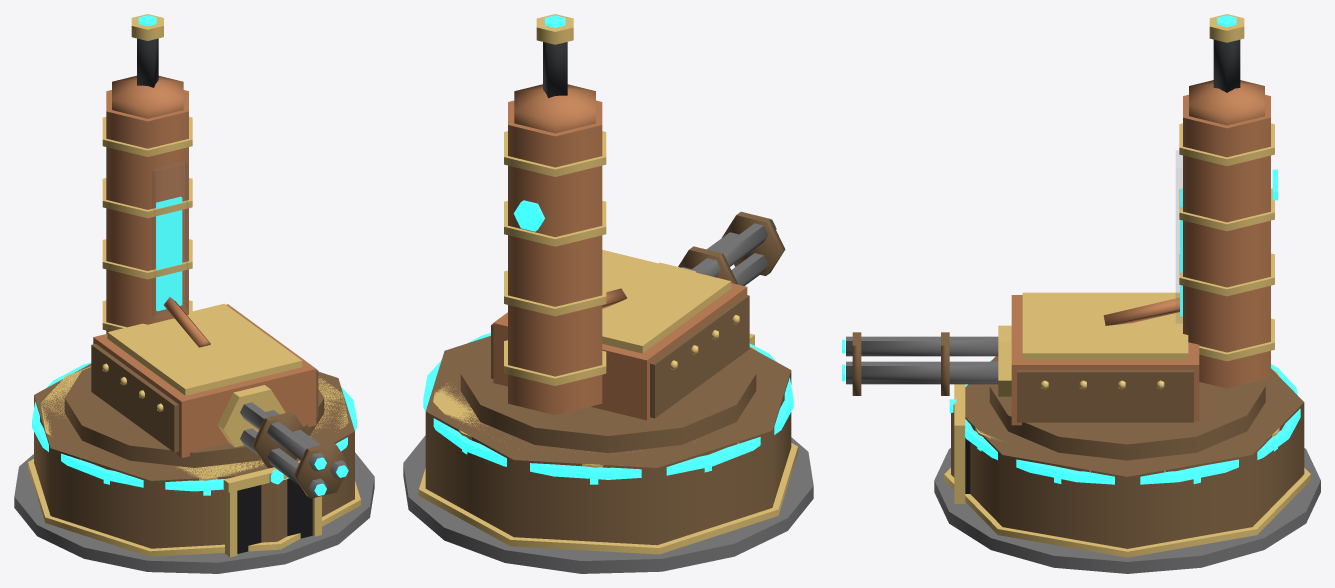
Rendered from Machinegoon_T1_Pepperbox.glb.
The picture shows the model from 3 angles, left to right: view 1: azimuth 30°, elevation 25°; view 2: azimuth 150°, elevation 25°; view 3: azimuth 270°, elevation 25°; orthographic projection. The views are drawn at different scales.
Parts seen in each view (by area): view 1: Machinegoon_T1_Pepperbox_Turret, Machinegoon_T1_Pepperbox_Base; view 2: Machinegoon_T1_Pepperbox_Turret, Machinegoon_T1_Pepperbox_Base; view 3: Machinegoon_T1_Pepperbox_Turret, Machinegoon_T1_Pepperbox_Base.
Part boxes in pixels (x1,y1,x2,y2): Machinegoon_T1_Pepperbox_Turret: [64, 14, 349, 498]; Machinegoon_T1_Pepperbox_Base: [14, 362, 374, 573]; Machinegoon_T1_Pepperbox_Turret: [460, 14, 785, 453]; Machinegoon_T1_Pepperbox_Base: [403, 333, 813, 573]; Machinegoon_T1_Pepperbox_Turret: [842, 14, 1277, 460]; Machinegoon_T1_Pepperbox_Base: [934, 356, 1320, 573].
Bounding box in the file's own units: 3.5 × 4.72 × 4.34.
